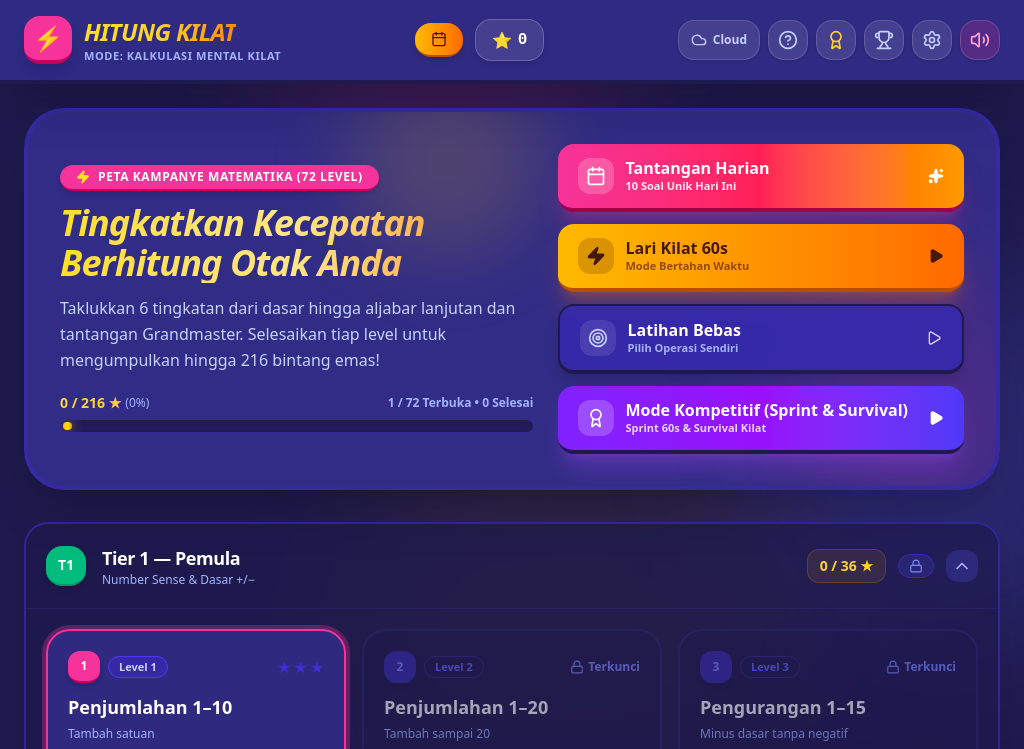
Test: Privacy Routing Integration › navigates to /privacy-policy from SettingsModal
The width and height of the screenshot is (1024, 749).
What coordinates should you click on to do the following:
click the button with id "settings-modal-trigger"
I would click on:
 (932, 40)
Its box is x1=912 y1=20 x2=952 y2=60.
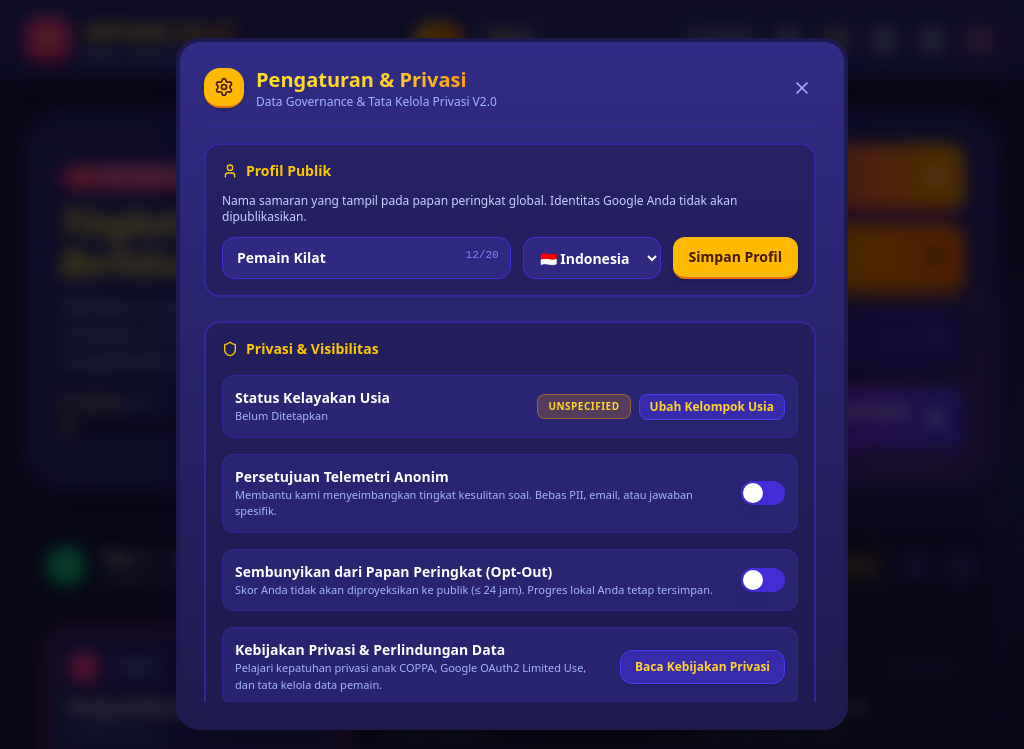
What coordinates should you click on to do the following:
click the button "Baca Kebijakan Privasi"
I would click on:
 (702, 667)
Its box is x1=620 y1=650 x2=785 y2=684.
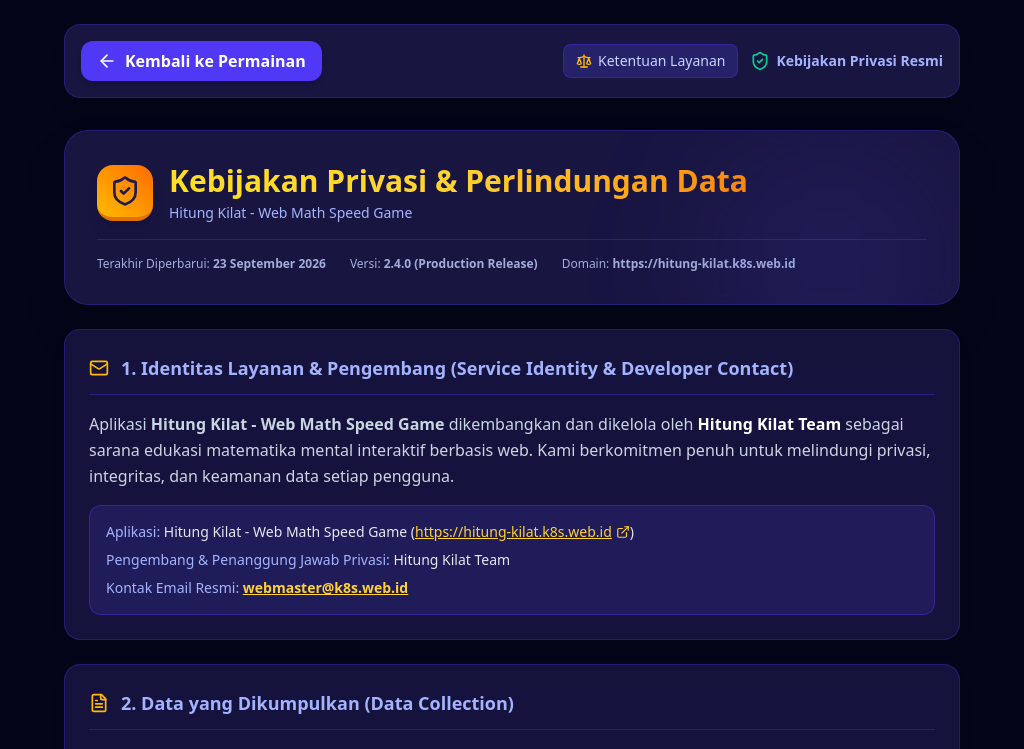
Expected: the heading "Kebijakan Privasi & Perlindungan Data" is shown, x1=169 y1=163 x2=748 y2=199
